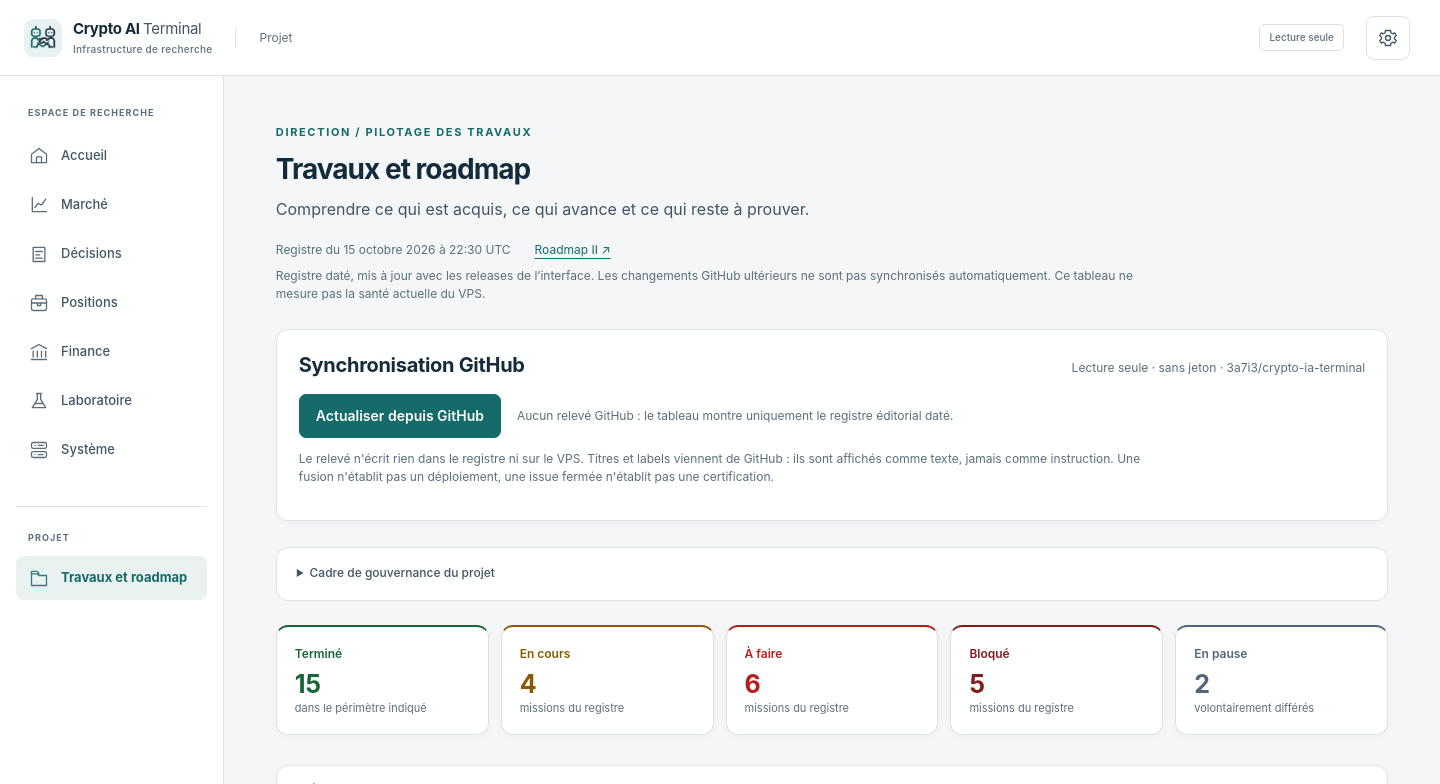
Test: Workboard GitHub sync UI › shows rate-limit refusal with the quota and spends nothing
What coordinates should you click on to do the following:
click the button "Actualiser depuis GitHub"
I would click on:
 (400, 416)
Its box is [299, 394, 501, 438].
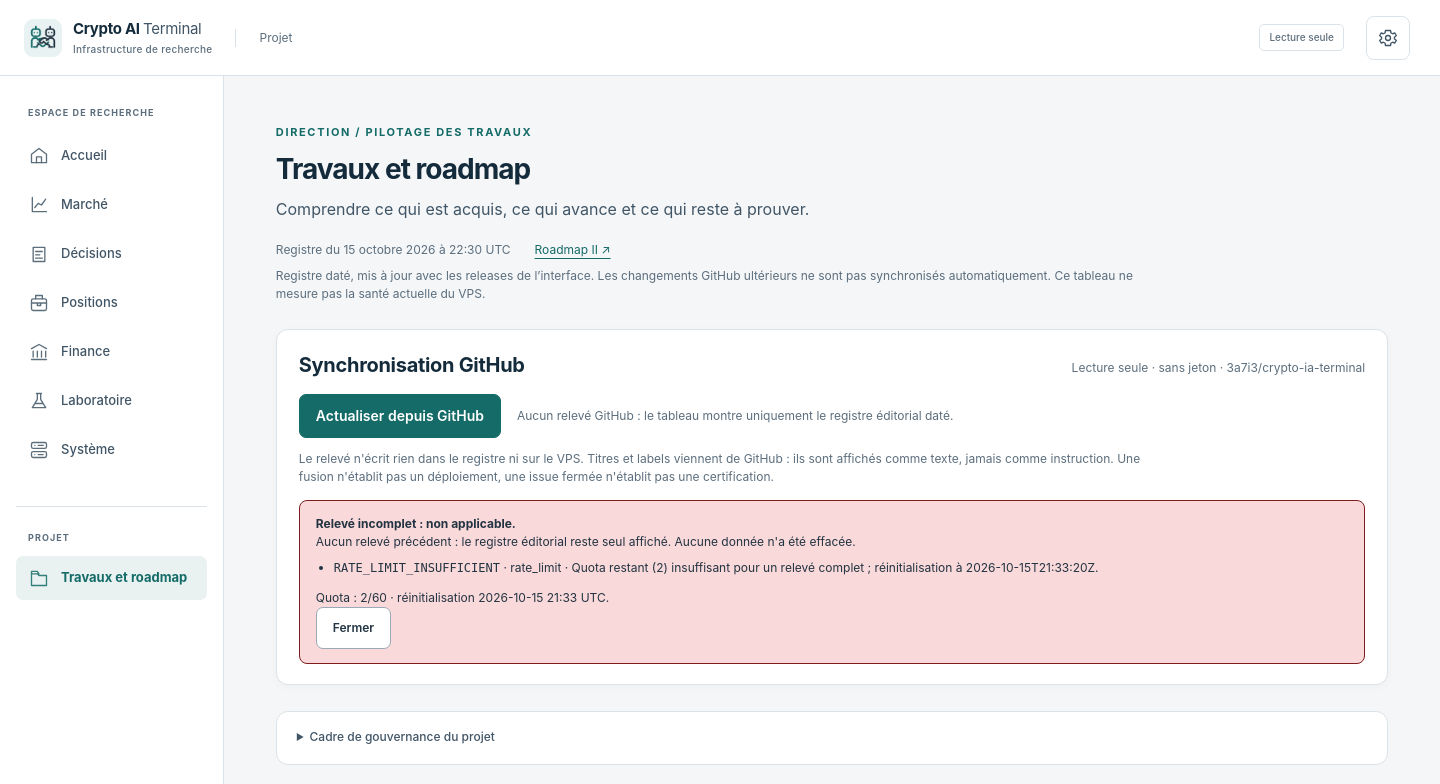
Expected: the message shows "RATE_LIMIT_INSUFFICIENT", [334, 561, 500, 575]
Expected: the message shows "Quota : 2/60", [299, 500, 1365, 664]
What coordinates should you click on to do the following:
click the button "Fermer"
I would click on:
 (353, 628)
Its box is [316, 607, 391, 649].
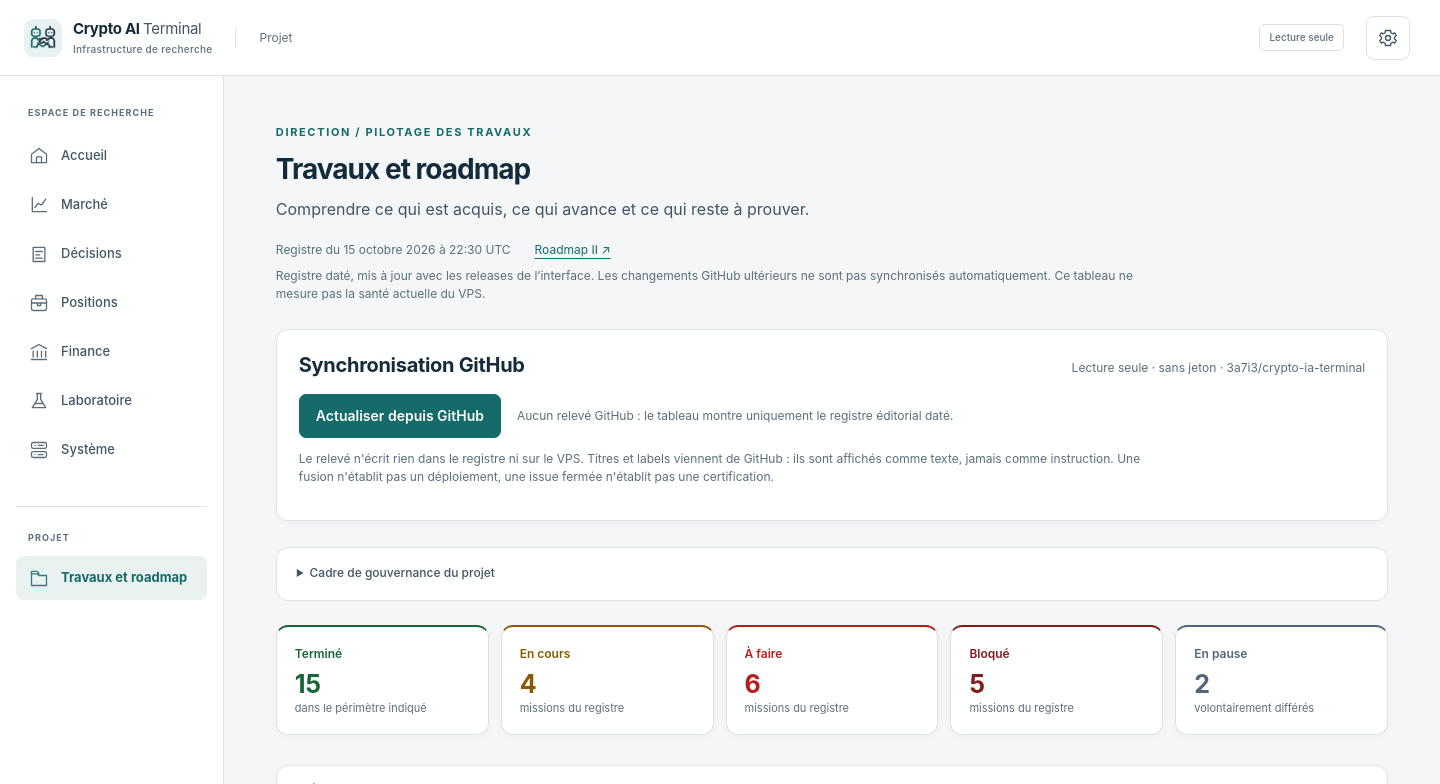
Expected: the message is gone
